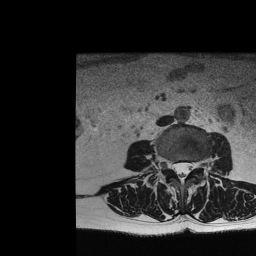CCS_normal: (178, 156, 184, 187)
LFS_normal: (192, 156, 200, 174)
LLS_normal: (185, 157, 192, 180)
RFS_normal: (165, 154, 172, 174)
RLS_normal: (172, 157, 179, 181)
